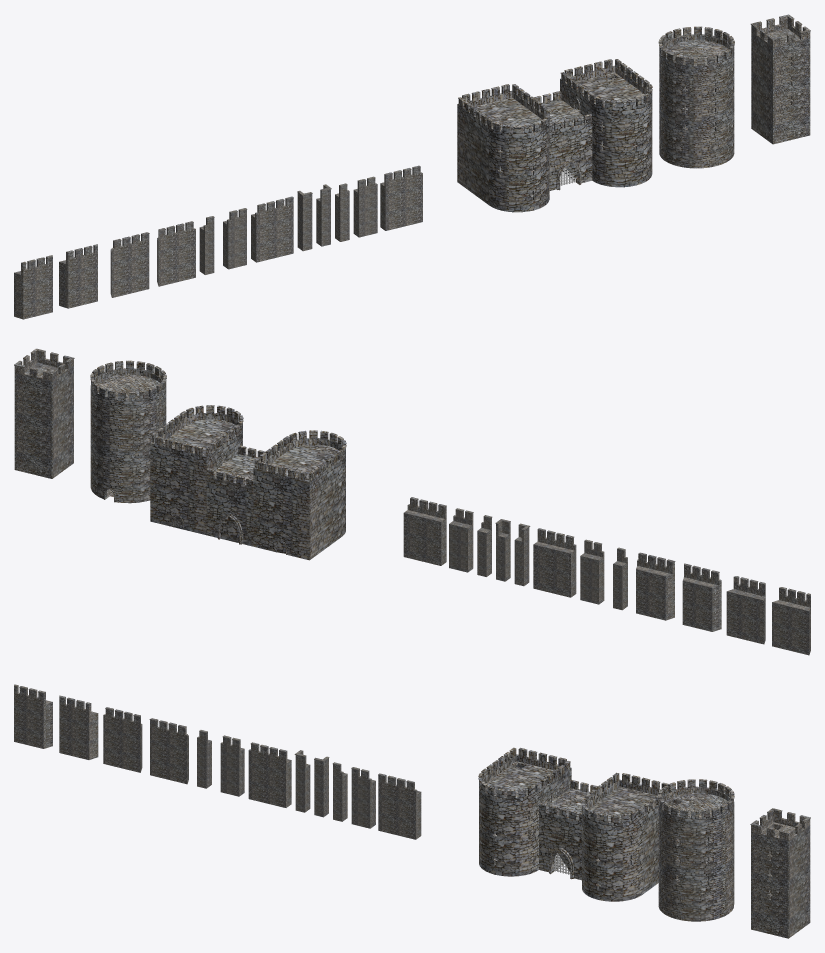
File: castle_final_v1.fbx
3 views of the same model, one above another, from view 1: azimuth 30°, elevation 25°; view 2: azimuth 150°, elevation 25°; view 3: azimuth 330°, elevation 25° (orthographic).
Visible parts, largest first — view 1: Gatehouse Shell, Large Round Tower Shell, Square Tower Shell, Wall 8m 2, Wall 8m 1, Wall 8m 2 Inward 45 Angle, Wall 8m 1 Inward 45 Angle, Wall 8m 2 Outerward 45 Angle, Wall 8m 1 Outerward 45 Angle, Wall 4m 1, Wall 4m 2, Wall Corner 2 (+3 smaller); view 2: Gatehouse Shell, Large Round Tower Shell, Square Tower Shell, Wall 8m 1, Wall 8m 2, Wall 8m 2 Inward 45 Angle, Wall 8m 1 Inward 45 Angle, Wall 8m 2 Outerward 45 Angle, Wall 8m 1 Outerward 45 Angle, Wall 4m 1, Wall 4m 2, Wall Corner 2 (+3 smaller); view 3: Gatehouse Shell, Large Round Tower Shell, Square Tower Shell, Wall 8m 1, Wall 8m 2, Wall 8m 2 Inward 45 Angle, Wall 8m 1 Inward 45 Angle, Wall 8m 2 Outerward 45 Angle, Wall 8m 1 Outerward 45 Angle, Wall 4m 2, Wall 4m 1, Wall Corner 2 (+3 smaller).
Boxes of the visible parts, x1,y1,x2,y2 form: Gatehouse Shell: [457, 59, 652, 212]; Large Round Tower Shell: [658, 26, 734, 168]; Square Tower Shell: [750, 14, 810, 144]; Wall 8m 2: [251, 196, 293, 262]; Wall 8m 1: [380, 165, 422, 230]; Wall 8m 2 Inward 45 Angle: [110, 232, 149, 297]; Wall 8m 1 Inward 45 Angle: [157, 221, 195, 286]; Wall 8m 2 Outerward 45 Angle: [59, 244, 97, 308]; Wall 8m 1 Outerward 45 Angle: [14, 255, 52, 319]; Wall 4m 1: [353, 176, 377, 237]; Wall 4m 2: [223, 208, 247, 269]; Wall Corner 2: [297, 190, 312, 251]; Gatehouse Shell: [150, 405, 346, 560]; Large Round Tower Shell: [90, 360, 166, 503]; Square Tower Shell: [14, 348, 74, 478]; Wall 8m 1: [403, 497, 446, 565]; Wall 8m 2: [533, 528, 576, 597]; Wall 8m 2 Inward 45 Angle: [682, 563, 721, 631]; Wall 8m 1 Inward 45 Angle: [636, 552, 675, 620]; Wall 8m 2 Outerward 45 Angle: [726, 576, 765, 644]; Wall 8m 1 Outerward 45 Angle: [772, 587, 810, 655]; Wall 4m 1: [449, 508, 473, 572]; Wall 4m 2: [580, 539, 604, 604]; Wall Corner 2: [514, 523, 530, 586]; Gatehouse Shell: [478, 747, 668, 901]; Large Round Tower Shell: [658, 779, 734, 921]; Square Tower Shell: [750, 808, 810, 938]; Wall 8m 1: [378, 773, 421, 839]; Wall 8m 2: [248, 742, 291, 807]; Wall 8m 2 Inward 45 Angle: [103, 707, 142, 772]; Wall 8m 1 Inward 45 Angle: [149, 718, 188, 784]; Wall 8m 2 Outerward 45 Angle: [59, 695, 98, 759]; Wall 8m 1 Outerward 45 Angle: [14, 684, 52, 748]; Wall 4m 2: [220, 735, 244, 796]; Wall 4m 1: [351, 767, 375, 828]; Wall Corner 2: [294, 750, 310, 812].
Size of the model in its own units: 16800 by 2255 by 1855.
